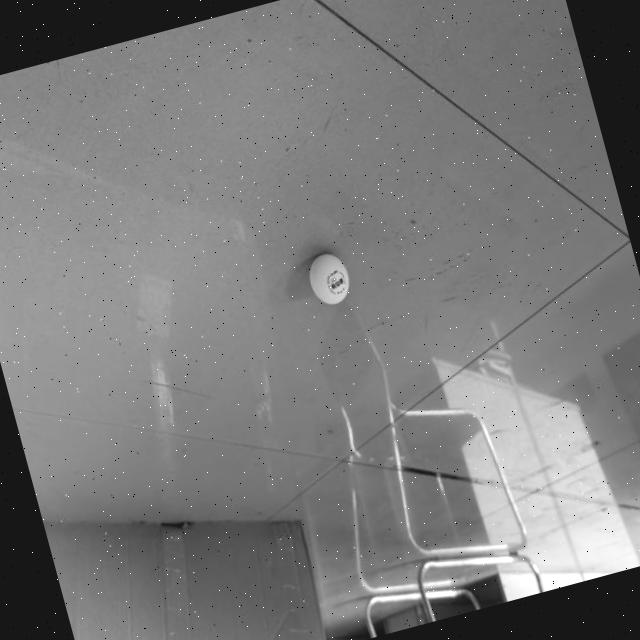ping-pong-ball: (302, 248, 354, 310)
